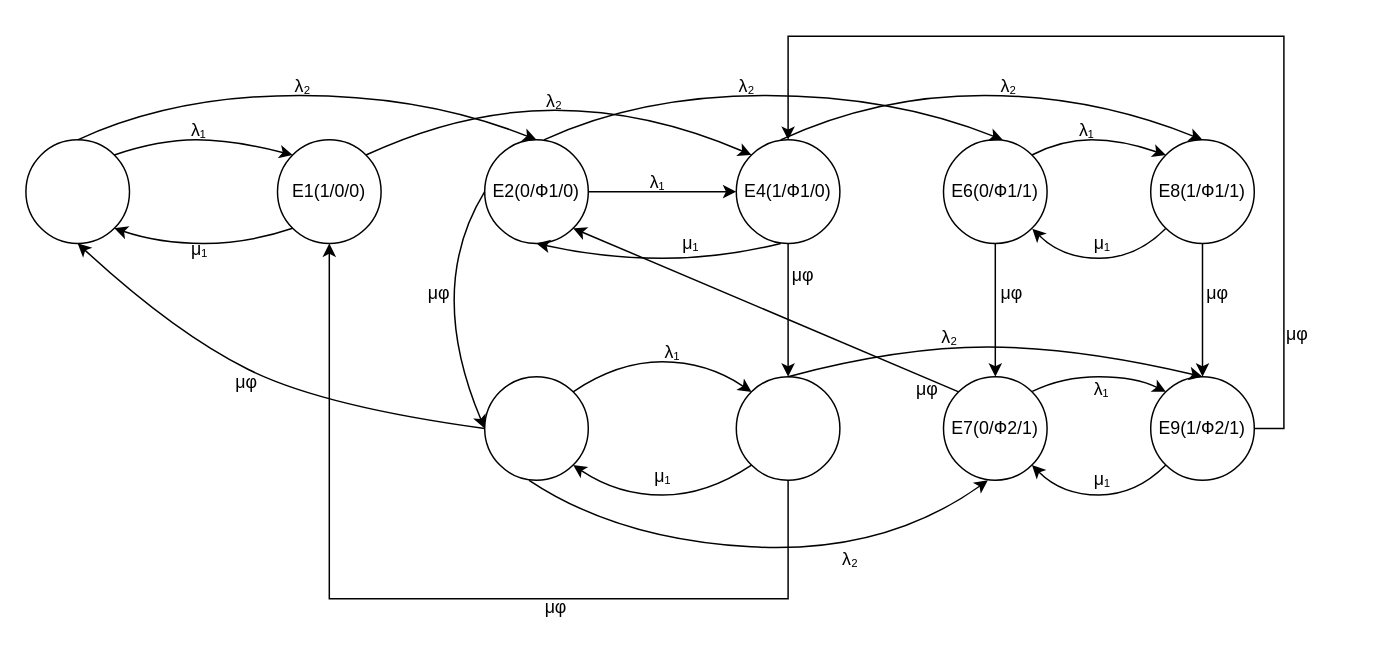
The diagram is 1384 pixels wide and 672 high, and some of its shapes have lost their labels. The shapes that lost their labels are listed below. From the top down, each one's centre as x and y in pixels, then its label:
At point (77, 190): "Е0(0/0/0)".
At point (535, 427): "Е3(0/Ф2/0)".
At point (787, 427): "Е5(1/Ф2/0)".
